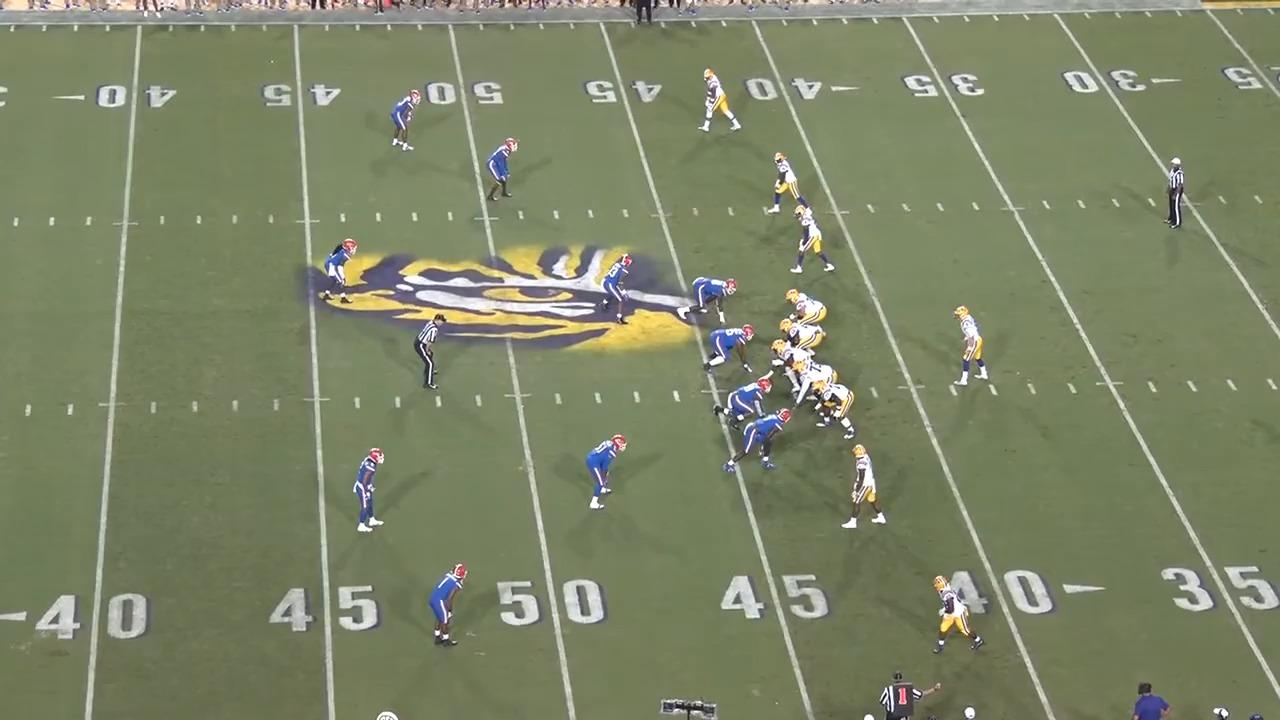defense: (720, 407, 789, 474), (583, 433, 630, 514), (428, 563, 470, 652), (347, 448, 386, 540), (678, 278, 740, 328), (701, 325, 758, 378), (715, 375, 774, 426), (602, 252, 639, 325), (322, 241, 359, 311), (483, 137, 519, 206), (383, 87, 418, 154)
oline: (810, 378, 856, 438), (769, 342, 819, 394), (790, 357, 834, 412), (787, 288, 833, 338), (775, 318, 820, 354)
qb: (957, 306, 994, 388)
ref: (874, 669, 940, 720), (414, 313, 452, 392), (1162, 155, 1190, 235), (628, 0, 658, 29)
skill: (930, 571, 989, 658), (843, 445, 891, 537), (788, 203, 840, 276), (695, 65, 742, 136), (768, 147, 814, 216)
